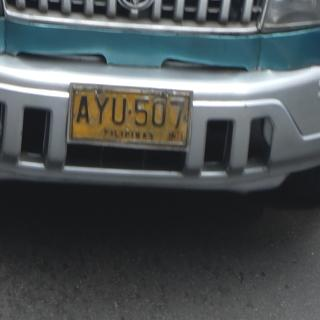license: (69, 86, 192, 151)
